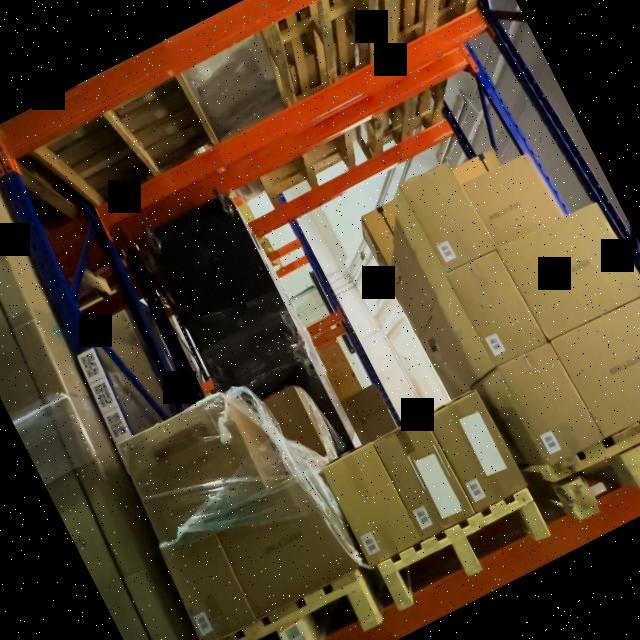box: (118, 392, 267, 544), (210, 476, 358, 616), (498, 202, 640, 341), (425, 389, 529, 513), (550, 298, 640, 439), (323, 442, 423, 567), (500, 344, 603, 464), (374, 419, 476, 539), (447, 250, 548, 367), (160, 524, 258, 640), (400, 162, 497, 273), (465, 154, 565, 246), (256, 386, 328, 477)
